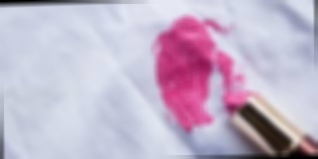lipstick: (146, 17, 231, 134)
